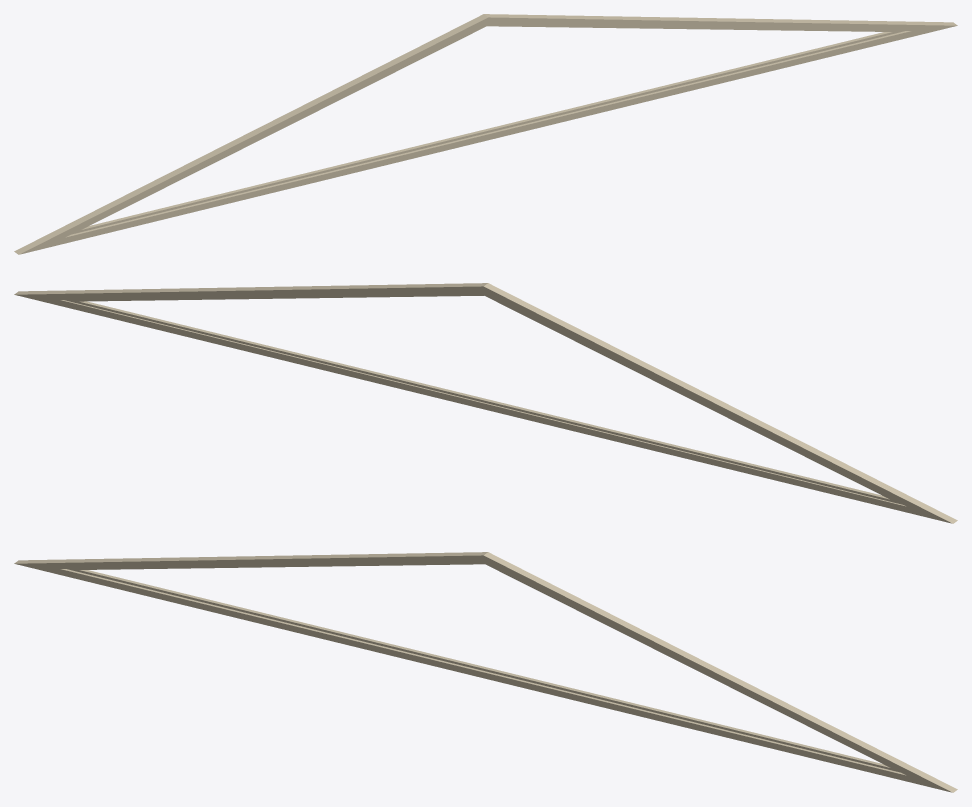
File: waterfront-pediment-moulding.lod1.glb
The picture shows the model from 3 angles, top to bottom: view 1: azimuth 30°, elevation 25°; view 2: azimuth 150°, elevation 25°; view 3: azimuth 330°, elevation 25°; orthographic projection.
Parts seen in each view (by area): view 1: waterfront-pediment-moulding; view 2: waterfront-pediment-moulding; view 3: waterfront-pediment-moulding.
Boxes of the visible parts, x1=… form: waterfront-pediment-moulding: x1=14, y1=14, x2=957, y2=254; waterfront-pediment-moulding: x1=14, y1=283, x2=957, y2=523; waterfront-pediment-moulding: x1=14, y1=552, x2=957, y2=792.
Bounding box in the file's own units: 28 × 3.5 × 0.24.
